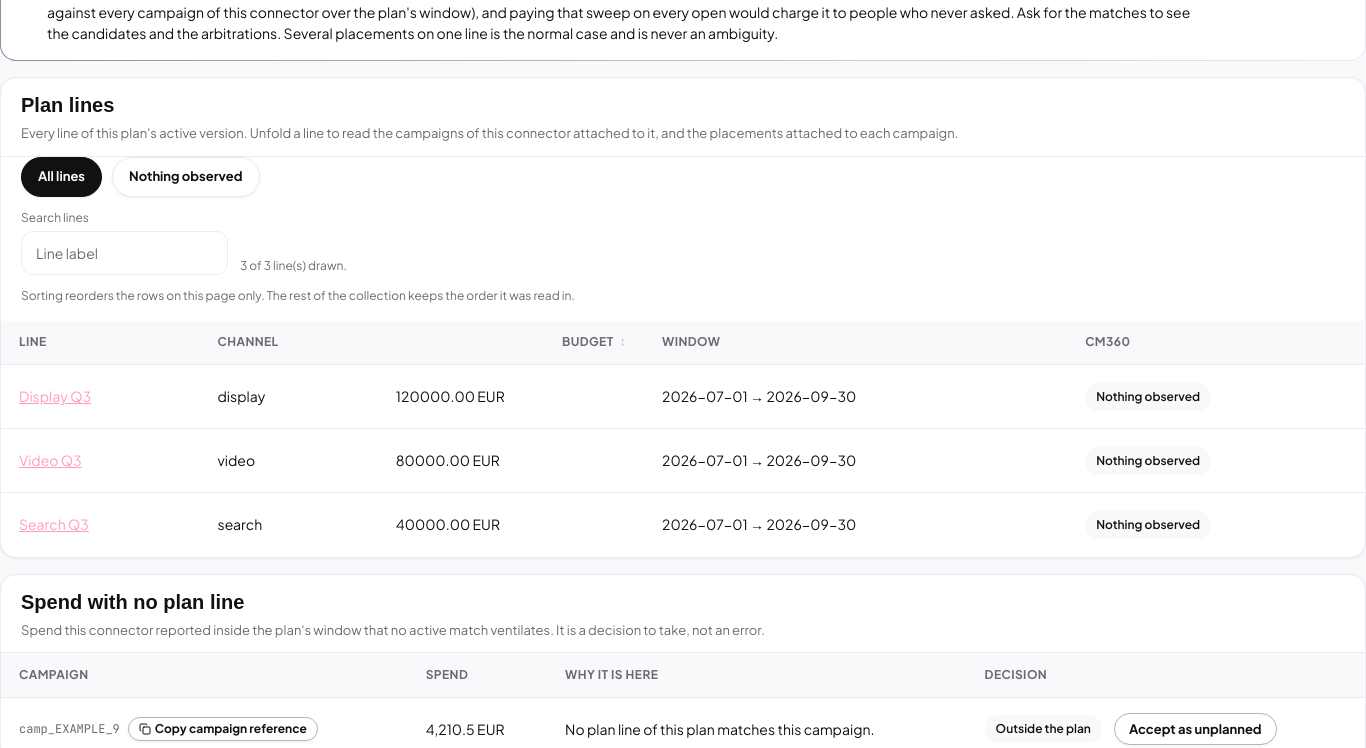
Test: Datastream Workbench — Placements › tells a line with no campaign to match one HERE, never in Governance
(page scrolled)
What coordinates should you click on to do the following:
click the button "Display Q3"
I would click on:
 (55, 397)
Its box is [19,386,91,407].
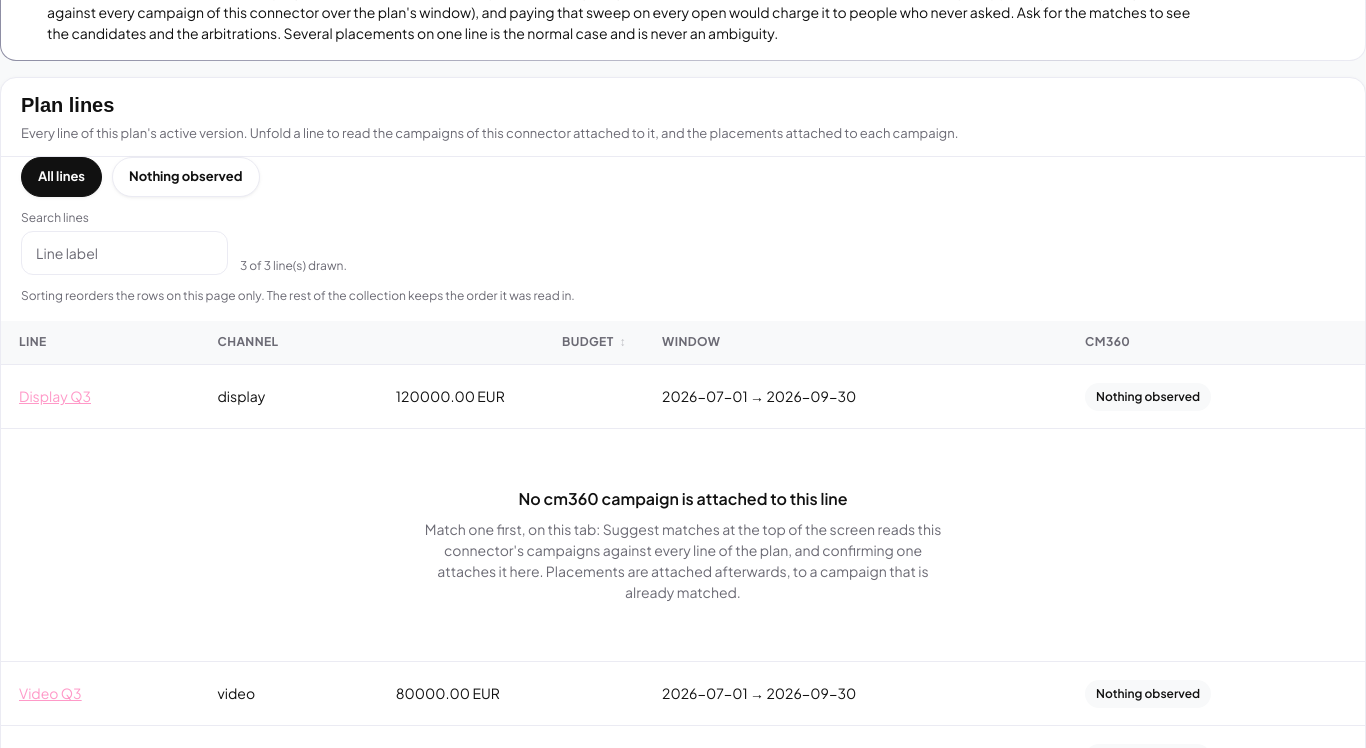
Now the text "No cm360 campaign is attached to this line" is shown, box [518,487,848,511]
Now the text "Placements are attached afterwards, to a campaign that is already matched" is shown, box [425,520,941,601]
